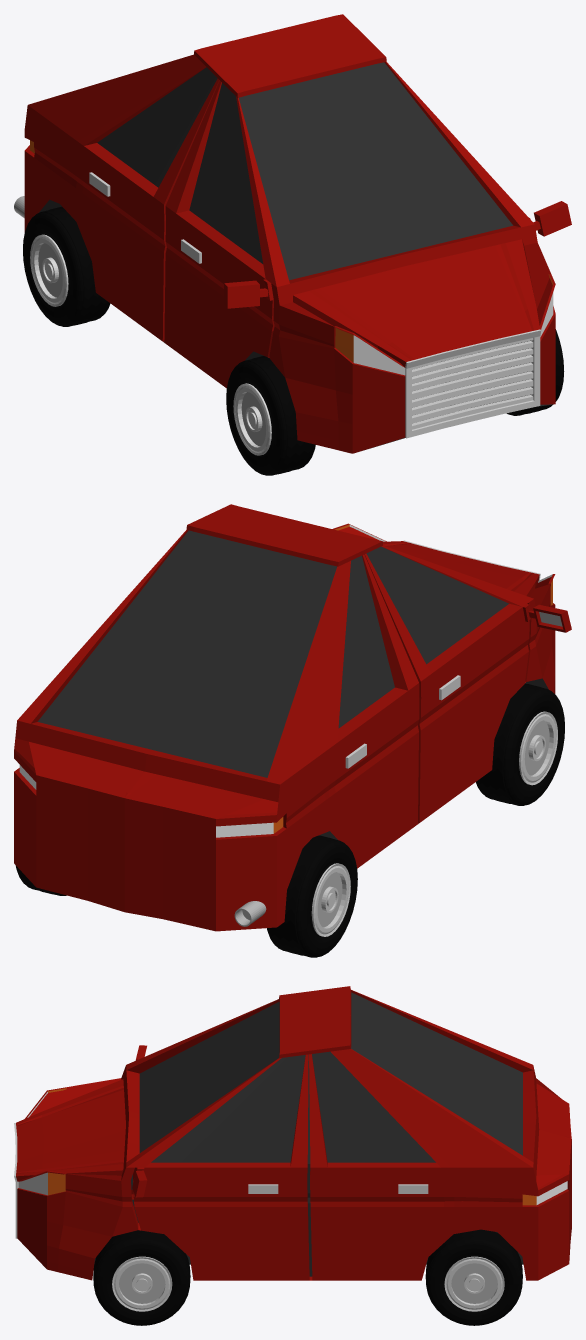
Rendered from CR-CAR-23.fbx.
3 views of the same model, one above another, from view 1: azimuth 30°, elevation 25°; view 2: azimuth 150°, elevation 25°; view 3: azimuth 270°, elevation 25° (orthographic). The views are drawn at different scales.
Parts seen in each view (by area): view 1: BODY, WHEEL.001, WHEEL.004, WHEEL.003; view 2: BODY, WHEEL.004, WHEEL.001, SHACMAN; view 3: BODY, WHEEL.002, WHEEL.003.
Boxes of the visible parts, x1,y1,x2,y2 form: BODY: (24, 14, 571, 453); WHEEL.001: (226, 356, 315, 475); WHEEL.004: (23, 206, 110, 326); WHEEL.003: (506, 329, 564, 415); BODY: (14, 504, 571, 931); WHEEL.004: (267, 835, 357, 957); WHEEL.001: (476, 683, 564, 805); SHACMAN: (234, 901, 266, 926); BODY: (14, 986, 571, 1280); WHEEL.002: (425, 1229, 522, 1325); WHEEL.003: (93, 1230, 190, 1325).
Size of the model in its own units: 131 by 114 by 224.
